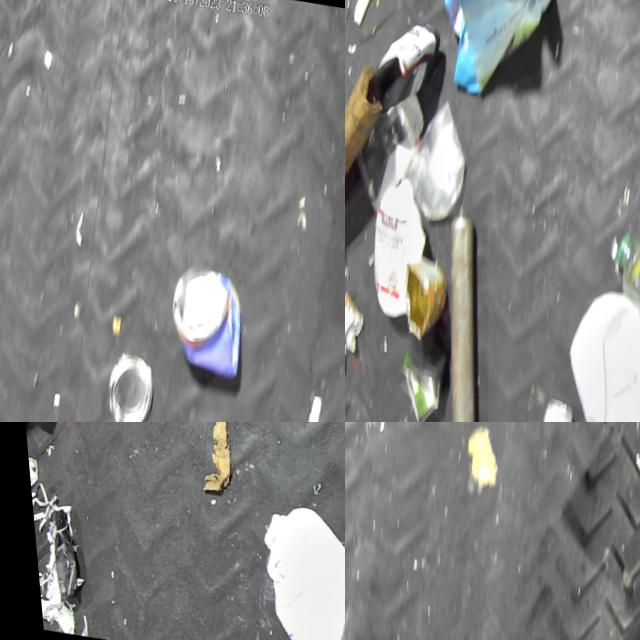can: (383, 249, 451, 346), (89, 350, 156, 422), (506, 394, 574, 422)
milk_jug: (226, 498, 345, 640), (532, 282, 640, 422)
